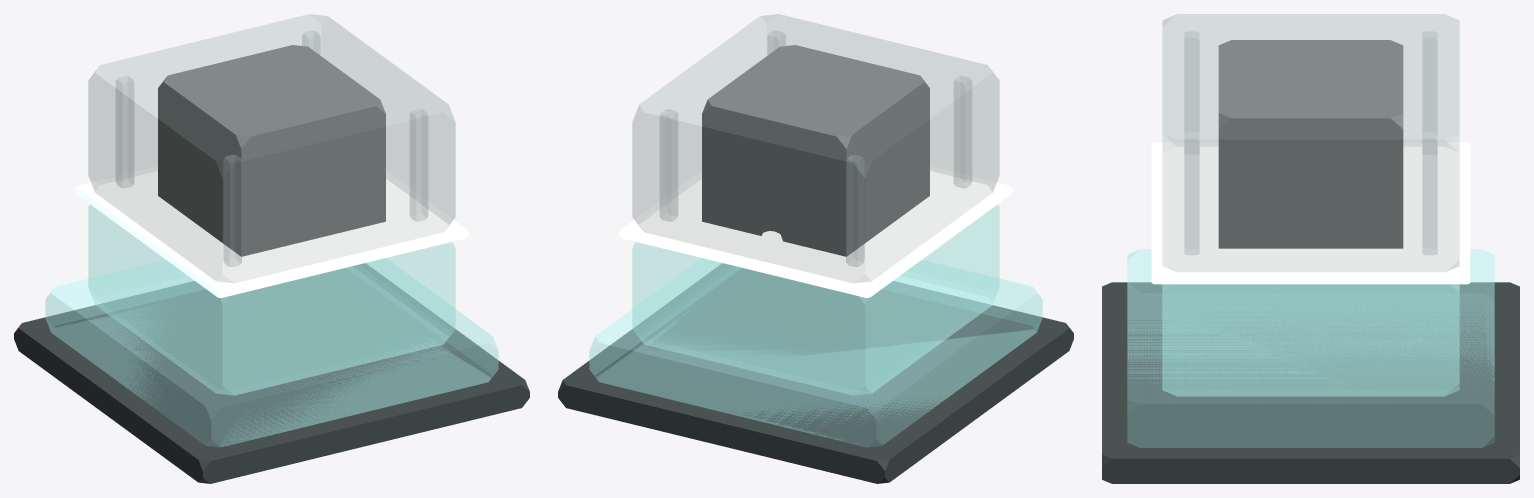
Rendered from company-core.glb.
3 renders of one model, left to right at view 1: azimuth 30°, elevation 25°; view 2: azimuth 150°, elevation 25°; view 3: azimuth 270°, elevation 25°, orthographic. The views are drawn at different scales.
Visible parts, largest first — view 1: Company_Volume, Core_Base, Mirror_Foundation, Company_State, Mirror_Volume, Mirror_Seam, Company_Frame_3, Company_Frame_1, Company_Frame_4; view 2: Company_Volume, Core_Base, Mirror_Foundation, Company_State, Mirror_Volume, Mirror_Seam, Company_Frame_1, Company_Frame_3, Company_Frame_2; view 3: Core_Base, Company_Volume, Mirror_Foundation, Company_State, Mirror_Volume, Mirror_Seam, Company_Frame_2, Company_Frame_4, Company_Frame_1, Company_Frame_3.
Part boxes in pixels (x1=…): Company_Volume: x1=88, y1=14, x2=455, y2=282; Core_Base: x1=14, y1=263, x2=529, y2=483; Mirror_Foundation: x1=45, y1=258, x2=498, y2=446; Company_State: x1=158, y1=45, x2=385, y2=256; Mirror_Volume: x1=88, y1=204, x2=455, y2=395; Mirror_Seam: x1=75, y1=166, x2=468, y2=297; Company_Frame_3: x1=223, y1=155, x2=241, y2=266; Company_Frame_1: x1=116, y1=76, x2=133, y2=187; Company_Frame_4: x1=410, y1=109, x2=427, y2=221; Company_Volume: x1=632, y1=14, x2=999, y2=282; Core_Base: x1=558, y1=263, x2=1073, y2=483; Mirror_Foundation: x1=589, y1=258, x2=1042, y2=447; Company_State: x1=702, y1=45, x2=929, y2=256; Mirror_Volume: x1=632, y1=204, x2=999, y2=395; Mirror_Seam: x1=619, y1=166, x2=1012, y2=297; Company_Frame_1: x1=846, y1=155, x2=864, y2=266; Company_Frame_3: x1=954, y1=76, x2=971, y2=187; Company_Frame_2: x1=660, y1=109, x2=677, y2=221; Core_Base: x1=1102, y1=282, x2=1519, y2=483; Company_Volume: x1=1162, y1=14, x2=1459, y2=271; Mirror_Foundation: x1=1127, y1=249, x2=1494, y2=447; Company_State: x1=1218, y1=40, x2=1403, y2=248; Mirror_Volume: x1=1162, y1=284, x2=1459, y2=396; Mirror_Seam: x1=1151, y1=142, x2=1470, y2=284; Company_Frame_2: x1=1422, y1=132, x2=1437, y2=254; Company_Frame_4: x1=1184, y1=132, x2=1199, y2=254; Company_Frame_1: x1=1422, y1=31, x2=1437, y2=132; Company_Frame_3: x1=1184, y1=31, x2=1199, y2=132.
Bounding box in the file's own units: 3.3 × 2.78 × 3.3.
